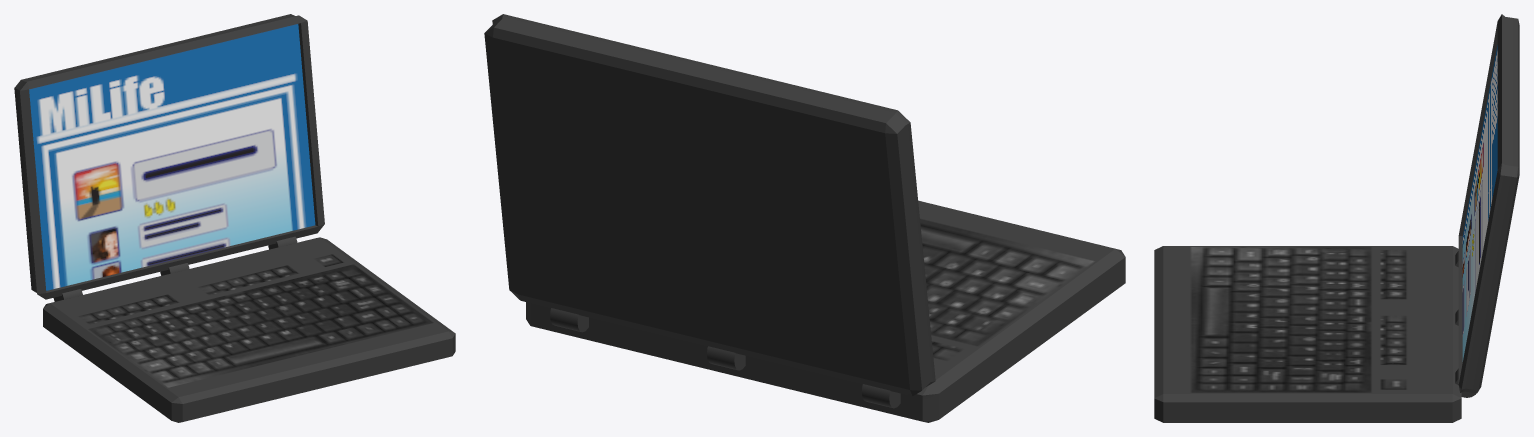
The model's file is Laptop01.fbx.
3 views of the same model, side by side, from view 1: azimuth 30°, elevation 25°; view 2: azimuth 150°, elevation 25°; view 3: azimuth 270°, elevation 25° (orthographic). The views are drawn at different scales.
Parts seen in each view (by area): view 1: pCube53; view 2: pCube53; view 3: pCube53.
Boxes of the visible parts, x1,y1,x2,y2 form: pCube53: (14, 14, 455, 422); pCube53: (484, 14, 1125, 422); pCube53: (1154, 14, 1519, 422).
Size of the model in its own units: 60.78 by 46.7 by 59.44.
